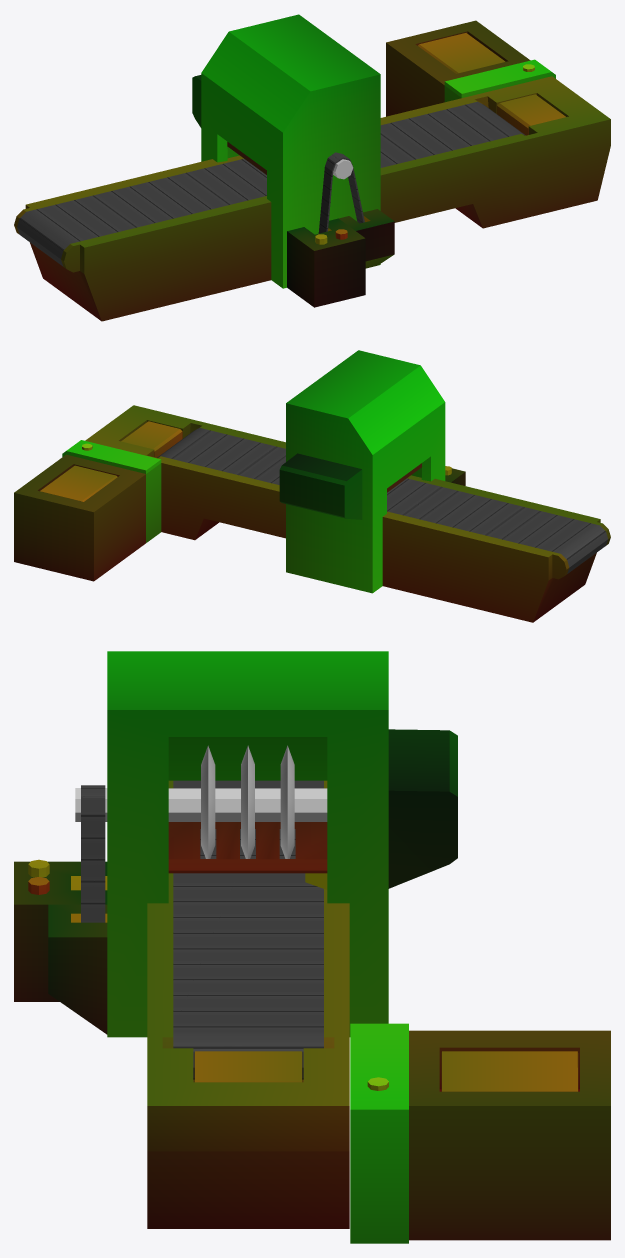
Rendered from stnok narezka (2).fbx.
3 renders of one model, top to bottom at view 1: azimuth 30°, elevation 25°; view 2: azimuth 150°, elevation 25°; view 3: azimuth 270°, elevation 25°, orthographic. The views are drawn at different scales.
Parts seen in each view (by area): view 1: Stanok narezka, Stanok narezka lenta 1, Stanok narezka platform2, Stanok narezka platform1, Stanok narezka lenta2; view 2: Stanok narezka, Stanok narezka lenta 1, Stanok narezka platform2, Stanok narezka platform1; view 3: Stanok narezka, Stanok narezka lenta 1, Stanok narezka lezvie, Stanok narezka platform2, Stanok narezka platform1, Stanok narezka lenta2.
Part boxes in pixels (<box>): Stanok narezka: <box>14,14,610,321</box>; Stanok narezka lenta 1: <box>17,101,525,266</box>; Stanok narezka platform2: <box>418,33,505,73</box>; Stanok narezka platform1: <box>497,94,565,135</box>; Stanok narezka lenta2: <box>318,152,364,233</box>; Stanok narezka: <box>14,350,610,622</box>; Stanok narezka lenta 1: <box>157,428,607,573</box>; Stanok narezka platform2: <box>40,465,117,501</box>; Stanok narezka platform1: <box>121,421,182,457</box>; Stanok narezka: <box>14,651,610,1243</box>; Stanok narezka lenta 1: <box>173,780,323,1079</box>; Stanok narezka lezvie: <box>75,745,327,858</box>; Stanok narezka platform2: <box>441,1051,578,1091</box>; Stanok narezka platform1: <box>194,1051,302,1082</box>; Stanok narezka lenta2: <box>81,785,105,922</box>.
Bounding box in the file's own units: 226 × 75.14 × 124.
